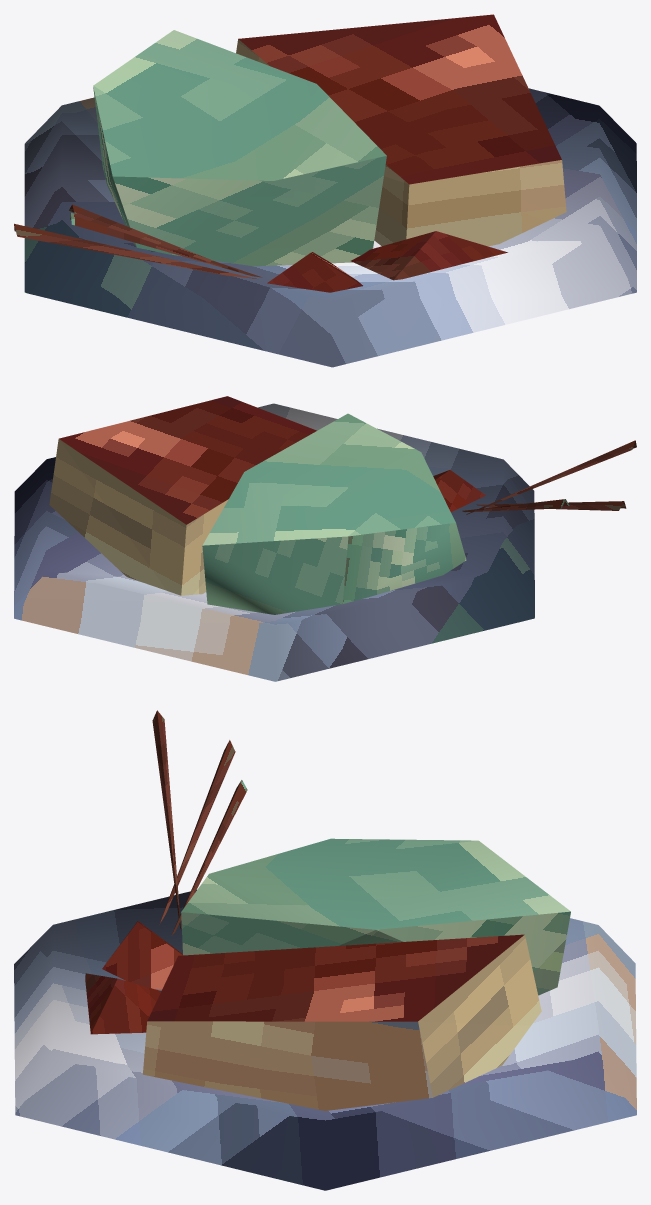
The model's file is edb_con_plate_s1_full_l2.fbx.
The picture shows the model from 3 angles, top to bottom: view 1: azimuth 30°, elevation 25°; view 2: azimuth 150°, elevation 25°; view 3: azimuth 270°, elevation 25°; orthographic projection. The views are drawn at different scales.
Parts seen in each view (by area): view 1: mesh_node; view 2: mesh_node; view 3: mesh_node.
Boxes of the visible parts, x1,y1,x2,y2 form: mesh_node: [14, 14, 636, 367]; mesh_node: [14, 396, 636, 681]; mesh_node: [14, 710, 636, 1190].
Size of the model in its own units: 0.4553 by 0.1279 by 0.3613.
